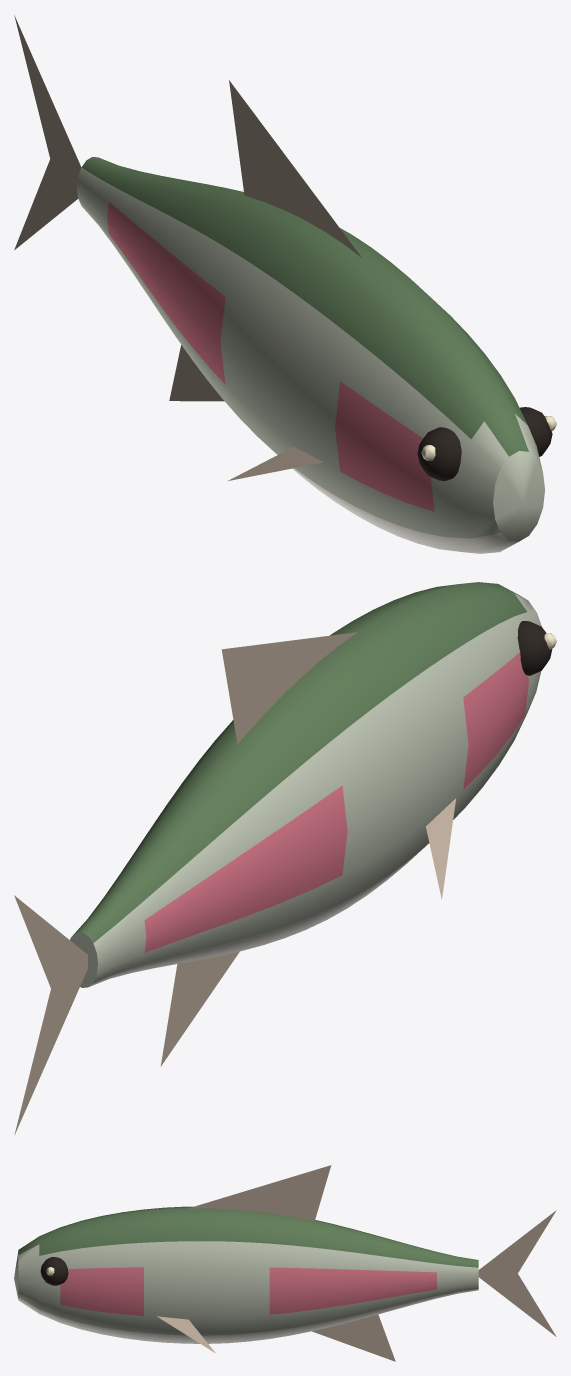
The model's file is rainbow_trout.fbx.
3 renders of one model, top to bottom at view 1: azimuth 30°, elevation 25°; view 2: azimuth 150°, elevation 25°; view 3: azimuth 270°, elevation 25°, orthographic. The views are drawn at different scales.
Visible parts, largest first — view 1: Fish_rainbow_trout_EXP; view 2: Fish_rainbow_trout_EXP; view 3: Fish_rainbow_trout_EXP.
Boxes of the visible parts, x1,y1,x2,y2 form: Fish_rainbow_trout_EXP: [14, 15, 556, 553]; Fish_rainbow_trout_EXP: [14, 582, 556, 1135]; Fish_rainbow_trout_EXP: [14, 1165, 556, 1361].
Bounding box in the file's own units: 0.1472 × 0.236 × 0.5898.
